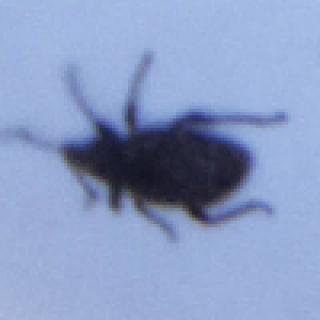bvw: (8, 48, 291, 248)
